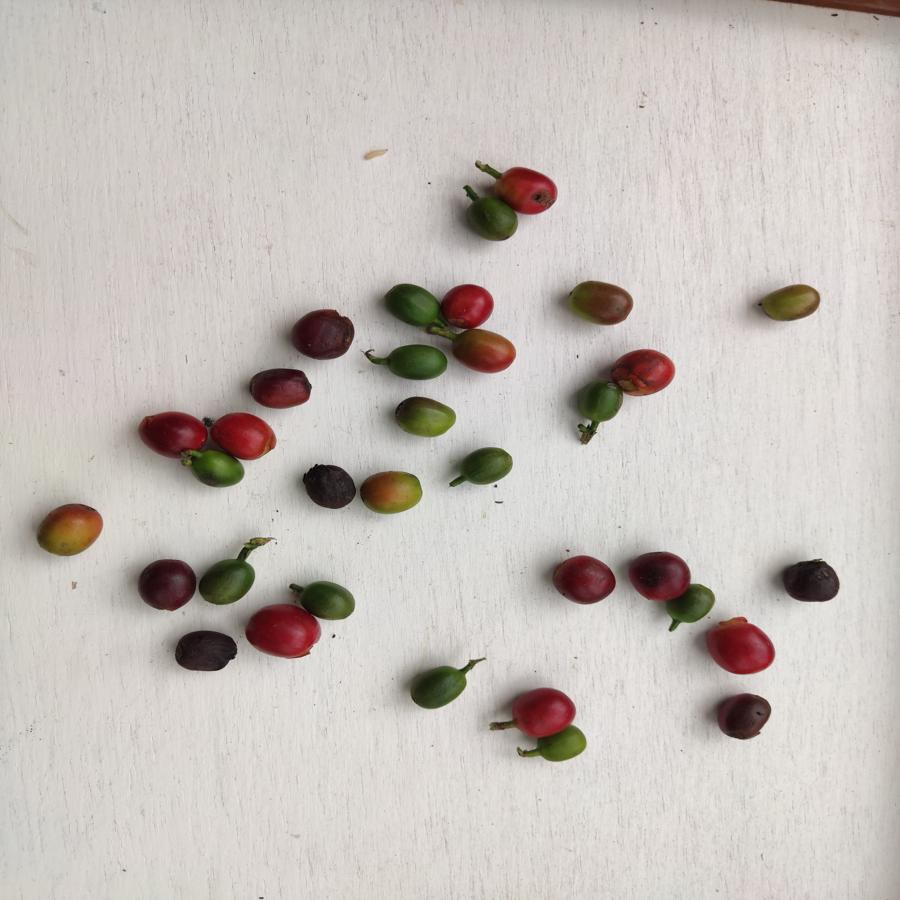Inmaduro: (411, 660, 470, 712), (199, 554, 256, 607), (382, 280, 440, 332), (458, 197, 520, 243), (301, 575, 362, 621), (453, 446, 518, 488), (380, 341, 449, 379), (182, 452, 248, 488), (576, 377, 619, 423), (536, 730, 587, 764), (682, 580, 712, 625)
Maduro: (243, 606, 327, 662), (702, 617, 778, 676), (507, 686, 576, 737), (212, 411, 280, 458), (617, 348, 679, 398), (498, 164, 565, 210), (439, 282, 500, 330)
Pinton: (562, 275, 639, 332), (34, 501, 105, 560), (448, 329, 519, 374), (359, 466, 424, 515), (757, 282, 831, 323), (391, 397, 456, 437)
Sobremaduro: (289, 303, 358, 362), (628, 549, 696, 604), (132, 407, 209, 455), (551, 553, 617, 608), (711, 688, 773, 743), (137, 555, 196, 612), (172, 627, 239, 676), (241, 366, 312, 412), (781, 558, 845, 607), (303, 463, 355, 510)
